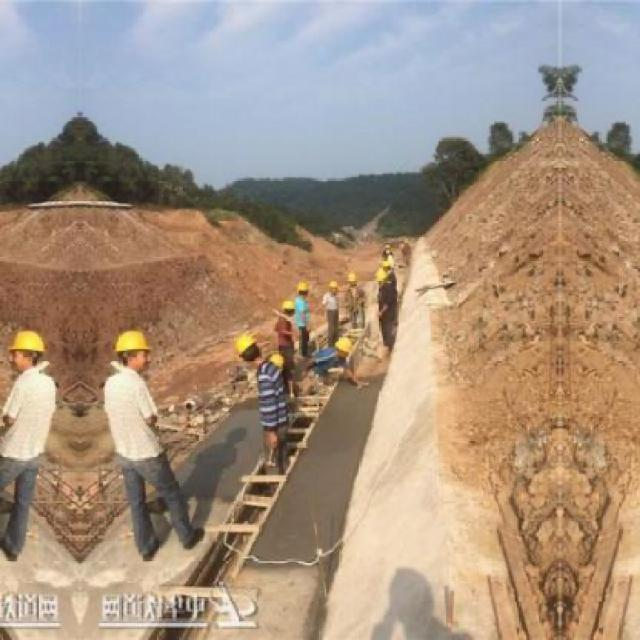helmet: (10, 328, 48, 372), (116, 328, 152, 372), (232, 329, 268, 362), (328, 332, 354, 365), (277, 295, 301, 317), (292, 278, 314, 302), (375, 263, 391, 288), (344, 270, 364, 288), (328, 275, 343, 294)
